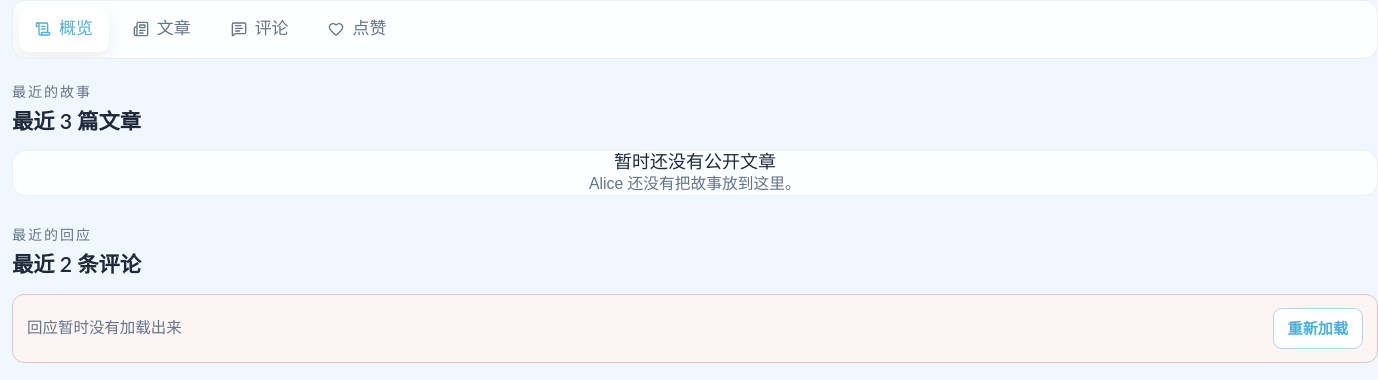
it: UserTabs comment activity › shows an initial-load retry in overview and comments, then replaces state after a successful retry
Expected: the text "回应暂时没有加载出来" is shown, [27,315,182,342]
Expected: the button "重新加载" is enabled, [1273,308,1363,349]
Click the tab "评论": click(260, 29) [215,7,304,52]
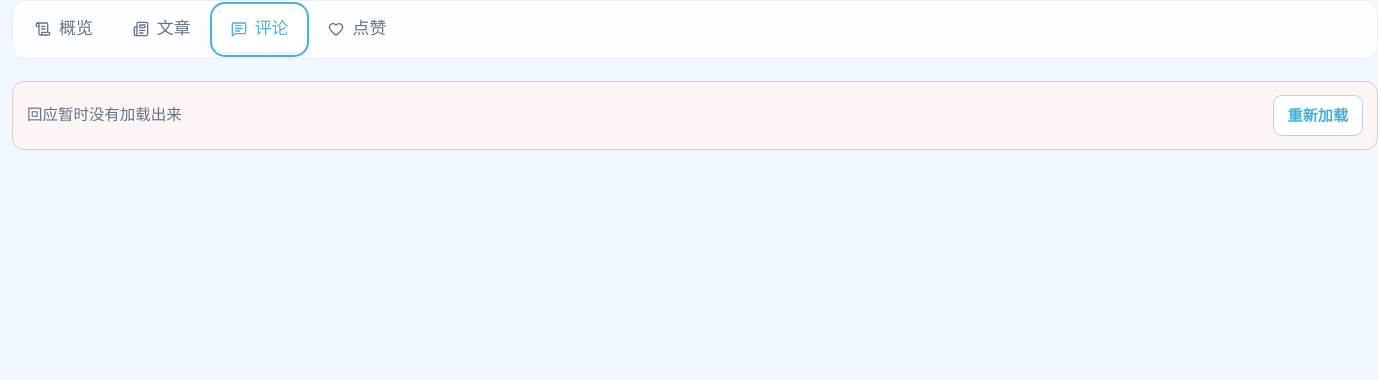
Expected: the text "回应暂时没有加载出来" is shown, [27,102,182,129]
Click the button "重新加载": click(1318, 116) [1273,95,1363,136]
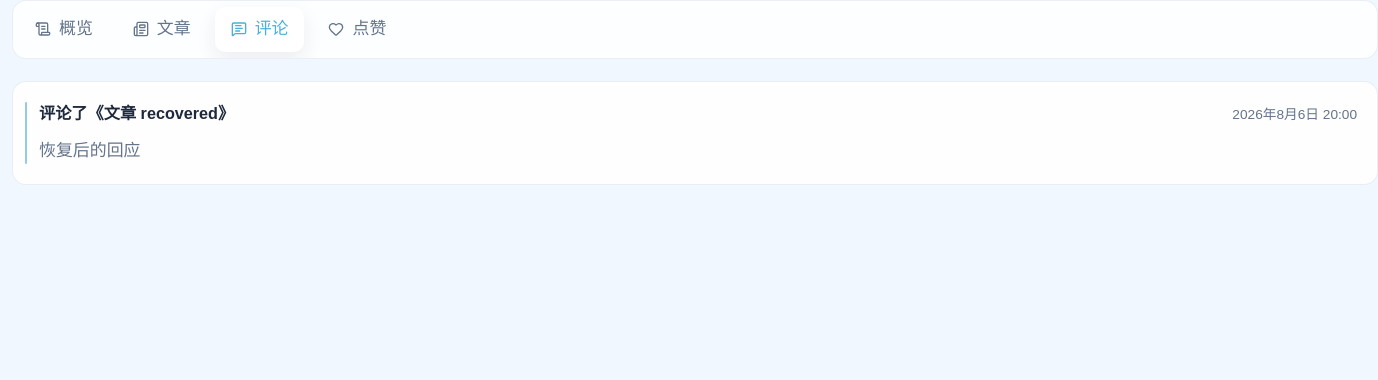
Now the text "回应暂时没有加载出来" is gone
Now the text "恢复后的回应" is shown, box [39,141,140,160]
